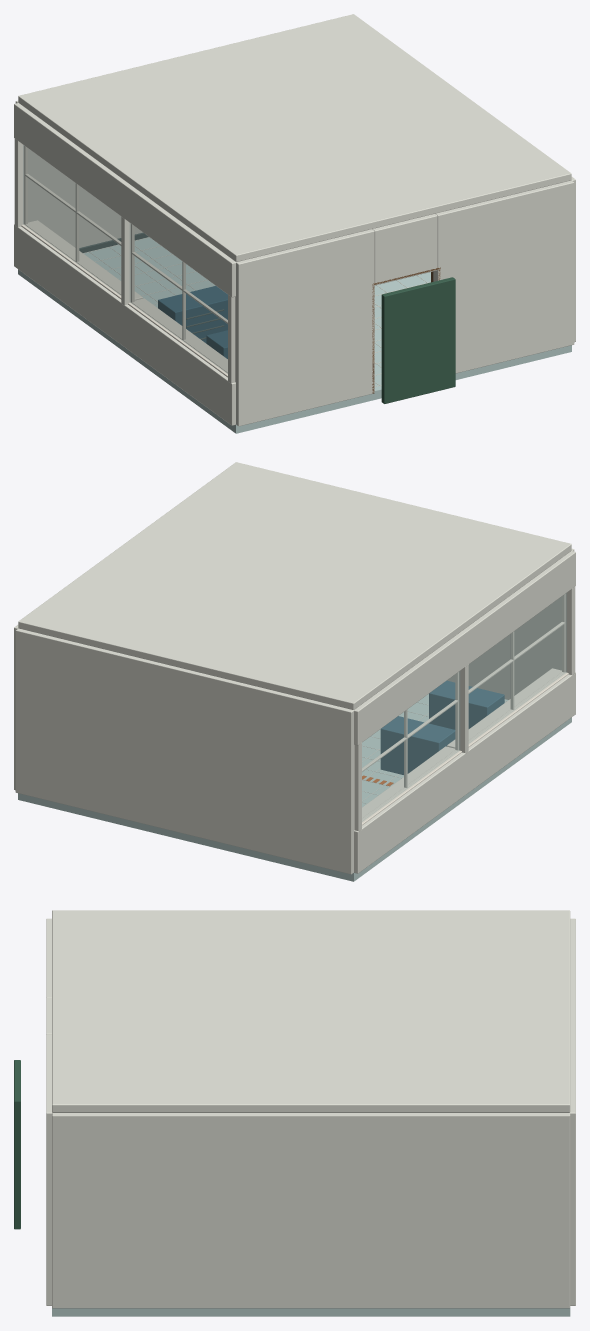
3 renders of one model, top to bottom at view 1: azimuth 30°, elevation 25°; view 2: azimuth 150°, elevation 25°; view 3: azimuth 270°, elevation 25°, orthographic. The views are drawn at different scales.
Parts seen in each view (by area): view 1: 3-3__architecture_and_equipment; view 2: 3-3__architecture_and_equipment; view 3: 3-3__architecture_and_equipment.
Boxes of the visible parts, left/top/right/bottom form: 3-3__architecture_and_equipment: left=14, top=14, right=575, bottom=433; 3-3__architecture_and_equipment: left=14, top=462, right=575, bottom=881; 3-3__architecture_and_equipment: left=14, top=910, right=575, bottom=1316.
Bounding box in the file's own units: 8.2 × 4.06 × 9.76.
Materials: 13 (1 with a texture image).
